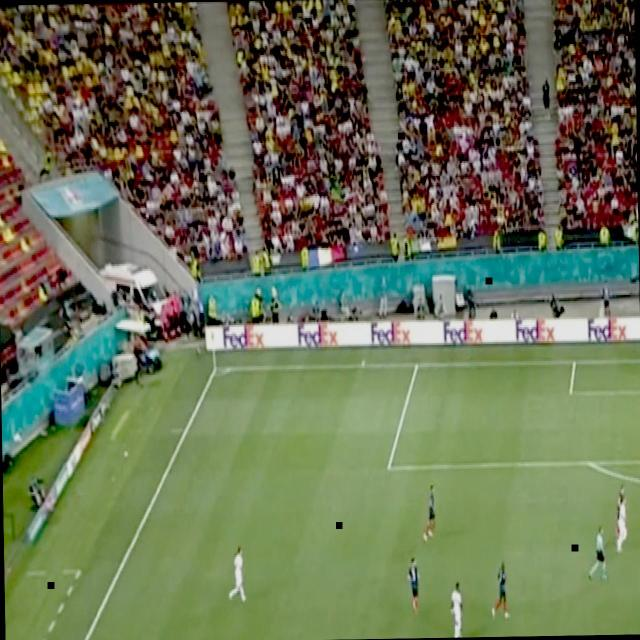player-white: (584, 519, 610, 588), (486, 554, 512, 622), (418, 478, 439, 549), (228, 540, 248, 609), (612, 474, 630, 540), (406, 553, 423, 619), (613, 489, 629, 555), (449, 574, 465, 638)
